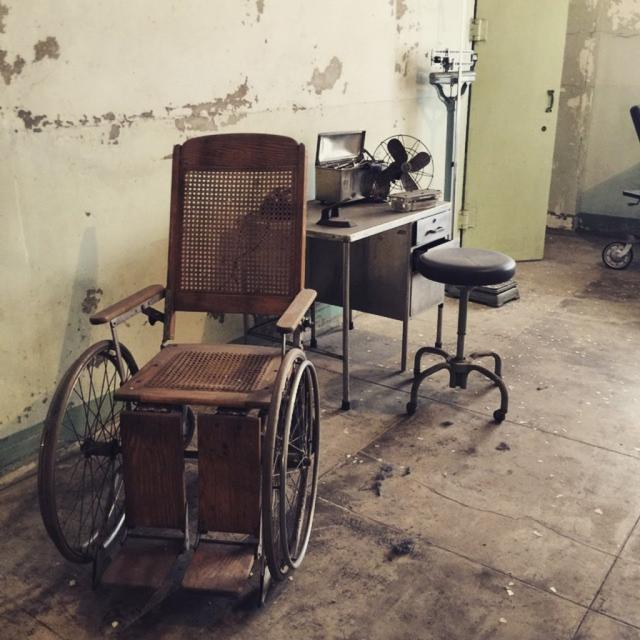wheelchairs: (45, 132, 322, 591)
